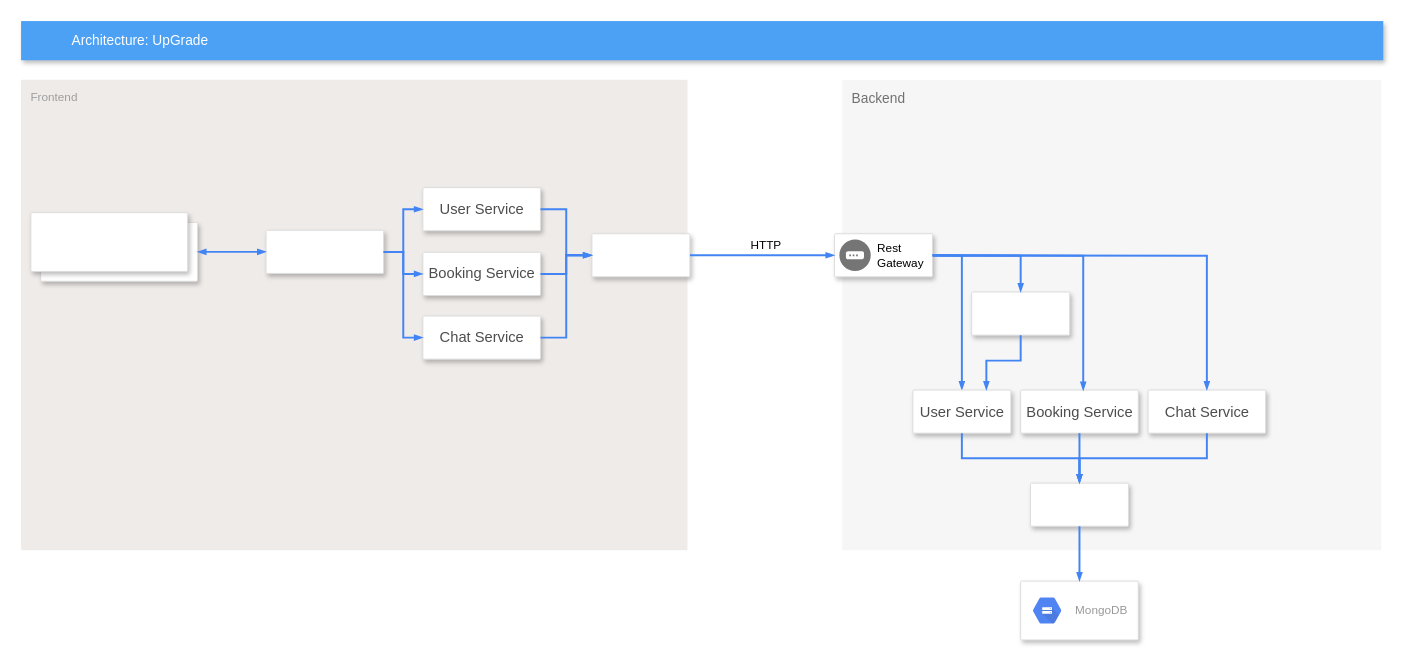
Some shapes in this 1405 by 663 pixel diagram are drawn without their labels. The shapes that lost their labels are listed below. From the top down, each one's centre as x and y in pixels, then its label:
point (110, 243): Views
point (325, 252): Vuex Store
point (641, 256): Axios
point (1021, 314): Login Service
point (1080, 505): Database Adapter
